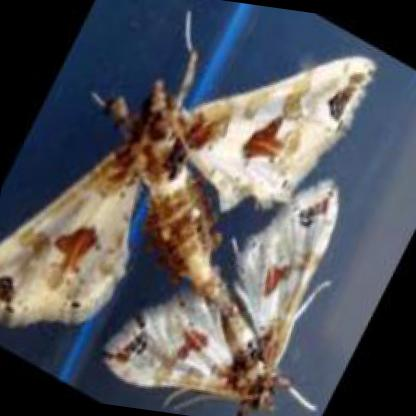leucinodes: (0, 16, 375, 330), (112, 180, 336, 408)
